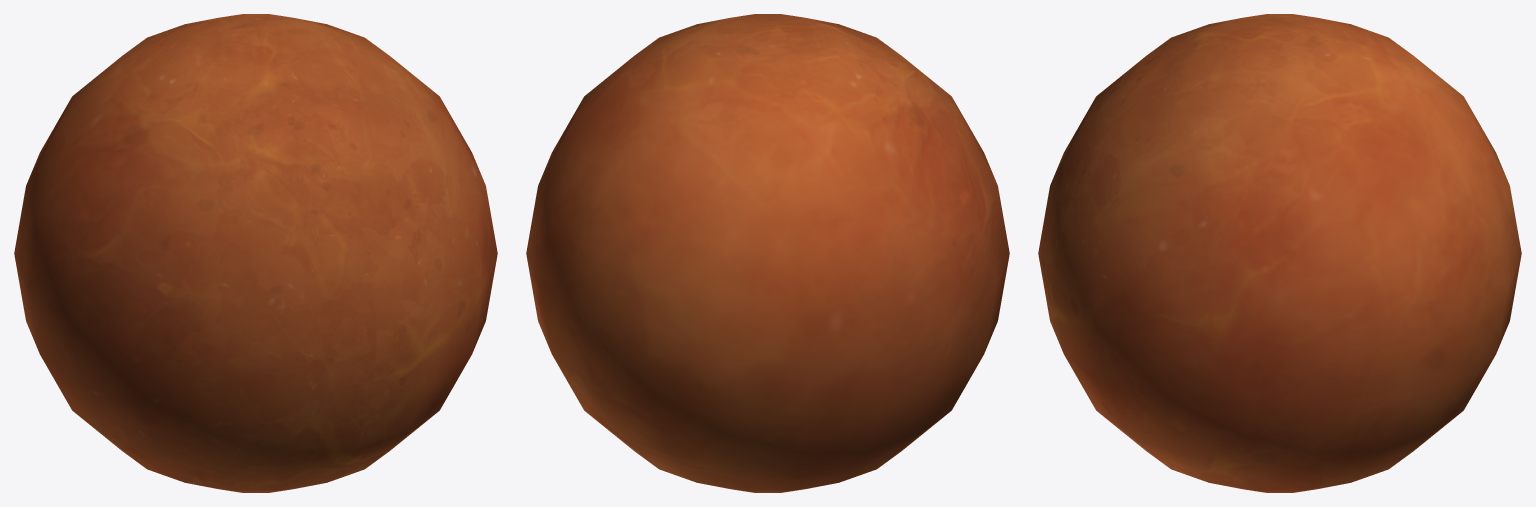
Rendered from Planet_Mars.fbx.
The picture shows the model from 3 angles, left to right: view 1: azimuth 30°, elevation 25°; view 2: azimuth 150°, elevation 25°; view 3: azimuth 270°, elevation 25°; orthographic projection.
Visible parts, largest first — view 1: Planet_Mars; view 2: Planet_Mars; view 3: Planet_Mars.
Boxes of the visible parts, x1,y1,x2,y2 form: Planet_Mars: (14,14,497,492); Planet_Mars: (526,14,1009,492); Planet_Mars: (1038,14,1521,492).
Bounding box in the file's own units: 217 × 220 × 220.
